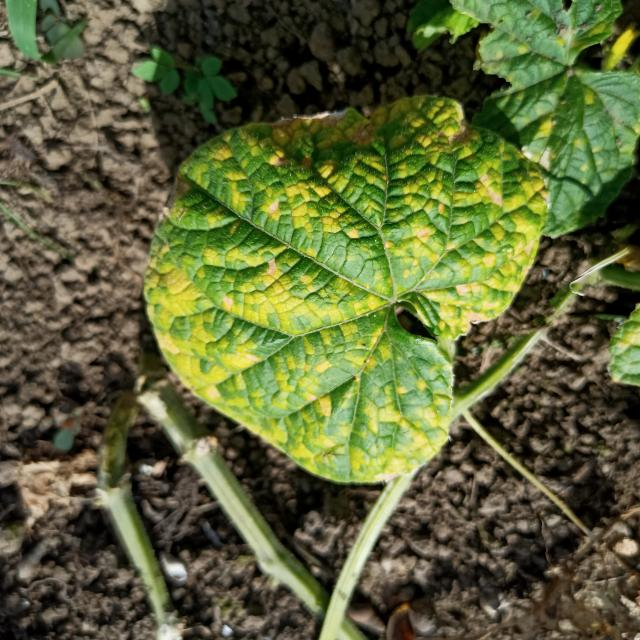disease_cucumber: (154, 106, 544, 477)
